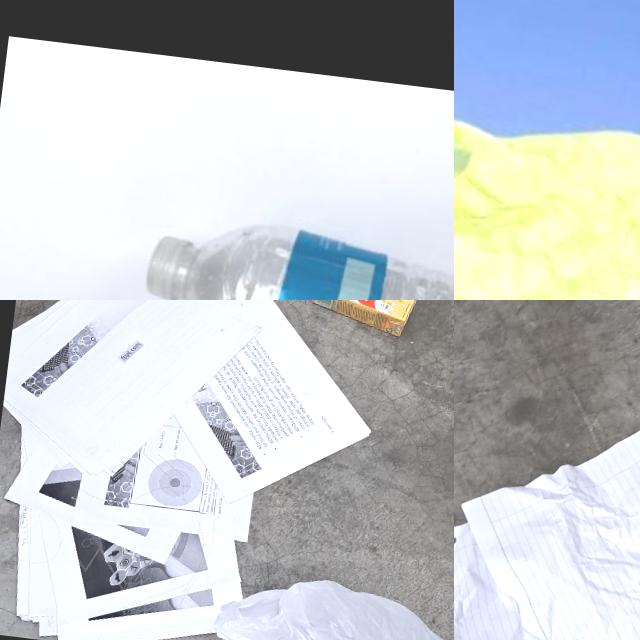caixinha: (309, 300, 422, 339)
garrafa plástica: (172, 210, 454, 300)
papel: (0, 300, 391, 640), (454, 351, 640, 640), (454, 515, 640, 640)
sacola plástica: (454, 95, 640, 300), (208, 565, 454, 640)
tampa plástica: (142, 234, 198, 300)
